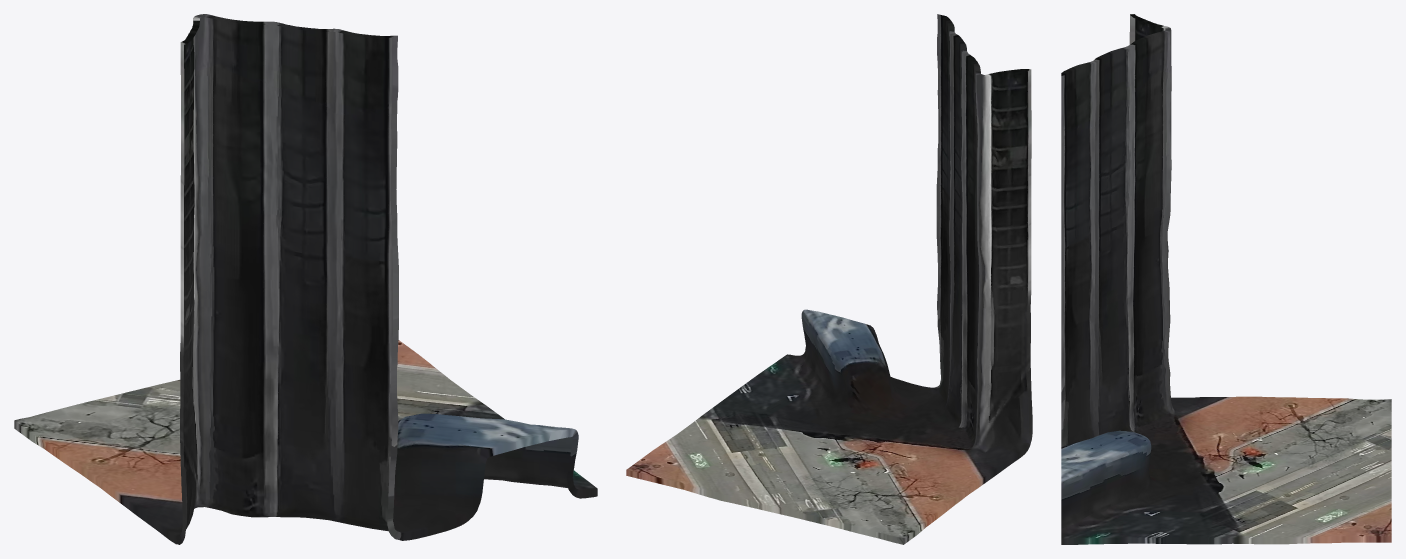
Rendered from z20-167778-405233-h0-yup-uvflip-v3-world.glb.
3 views of the same model, side by side, from view 1: azimuth 30°, elevation 25°; view 2: azimuth 150°, elevation 25°; view 3: azimuth 270°, elevation 25° (orthographic). The views are drawn at different scales.
Bounding box in the file's own units: 30.16 × 39.76 × 30.32.
Materials: 1 (1 with a texture image).
